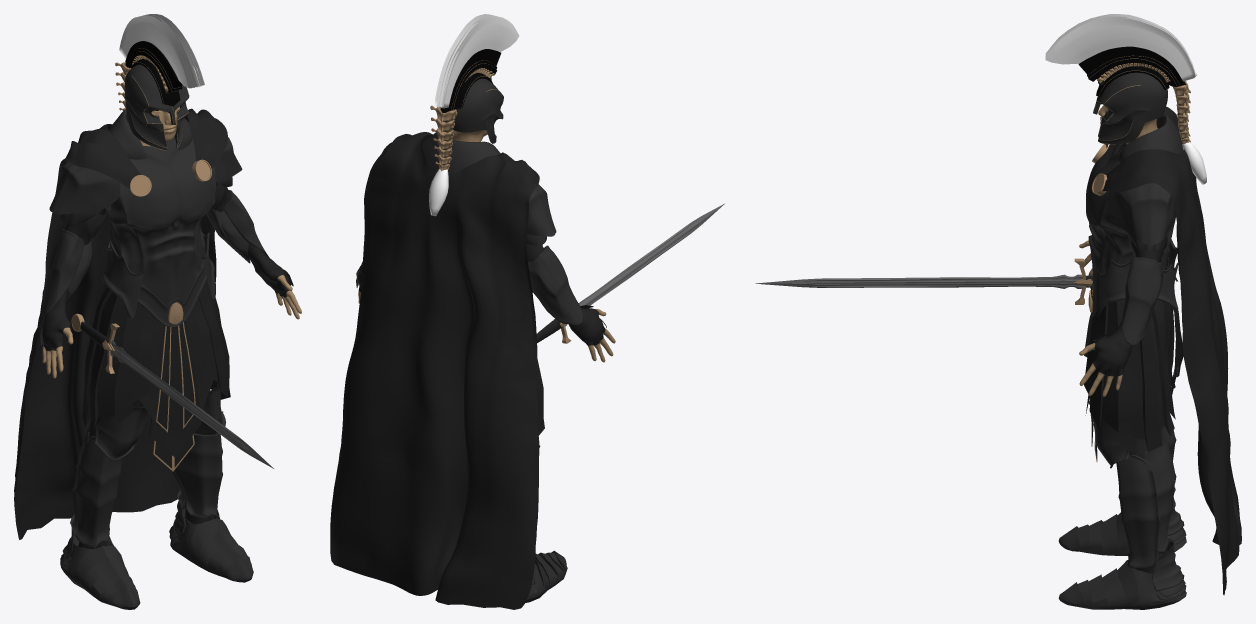
File: AGEMENMNON ARMOR 3D MODLE.fbx
3 renders of one model, left to right at view 1: azimuth 30°, elevation 25°; view 2: azimuth 150°, elevation 25°; view 3: azimuth 270°, elevation 25°, orthographic.
Visible parts, largest first — view 1: Plane, Cylinder.025, Cylinder.009, Cylinder.007, Cylinder.017, Cylinder.016, Cylinder.024, Cylinder.033, Plane.007, Cylinder.018, Cylinder.002, Plane.043 (+16 smaller); view 2: Plane, Plane.043, Cylinder.013, Plane.007, Cylinder.017, Cube.001, Cylinder.019, Cylinder.002, Cylinder.024, Plane.032, Plane.044; view 3: Plane, Cylinder.009, Plane.043, Cylinder.018, Plane.007, Cylinder.025, Cylinder.033, Cylinder.010, Cube.001, Cylinder.017, Cylinder.003, Cylinder.024 (+6 smaller).
Part boxes in pixels (<box>): Plane: <box>14,108,227,539</box>; Cylinder.025: <box>106,136,216,307</box>; Cylinder.009: <box>82,278,230,431</box>; Cylinder.007: <box>149,320,201,471</box>; Cylinder.017: <box>42,106,301,548</box>; Cylinder.016: <box>71,436,123,549</box>; Cylinder.024: <box>60,535,140,609</box>; Cylinder.033: <box>170,508,253,582</box>; Plane.007: <box>124,64,189,150</box>; Cylinder.018: <box>171,434,222,518</box>; Cylinder.002: <box>49,161,120,224</box>; Plane.043: <box>119,14,204,88</box>; Plane: <box>330,132,539,609</box>; Plane.043: <box>434,14,519,108</box>; Cylinder.013: <box>528,245,583,325</box>; Plane.007: <box>452,78,503,143</box>; Cylinder.017: <box>358,130,615,362</box>; Cube.001: <box>565,203,724,326</box>; Cylinder.019: <box>422,132,500,174</box>; Cylinder.002: <box>527,184,556,245</box>; Cylinder.024: <box>525,550,567,602</box>; Plane.032: <box>440,49,501,112</box>; Plane.044: <box>429,169,448,216</box>; Plane: <box>1102,106,1241,595</box>; Cylinder.009: <box>1084,299,1175,451</box>; Plane.043: <box>1044,14,1196,81</box>; Cylinder.018: <box>1116,454,1160,568</box>; Plane.007: <box>1093,72,1167,144</box>; Cylinder.025: <box>1086,143,1175,291</box>; Cylinder.033: <box>1058,560,1186,609</box>; Cylinder.010: <box>1107,183,1174,251</box>; Cube.001: <box>755,274,1082,288</box>; Cylinder.017: <box>1079,105,1167,573</box>; Cylinder.003: <box>1121,257,1163,345</box>; Cylinder.024: <box>1058,512,1186,555</box>.
Bounding box in the file's own units: 102 × 221 × 174.
